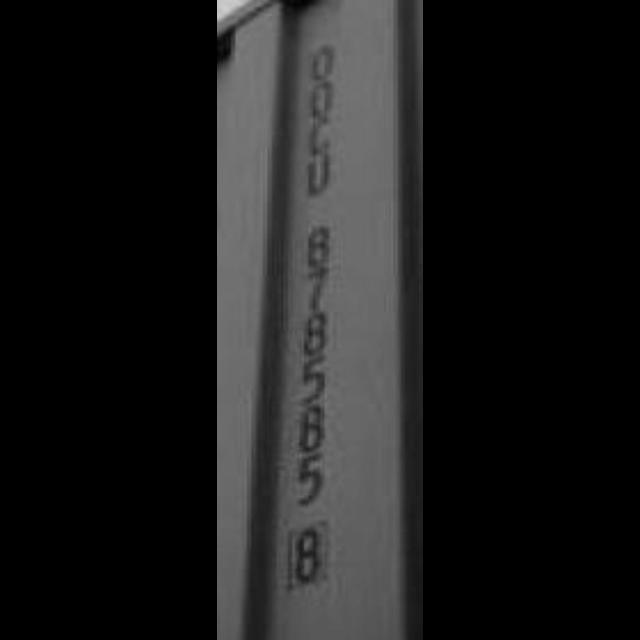5: (290, 450, 338, 510), (290, 357, 334, 405)
7: (292, 268, 341, 314)
8: (284, 521, 334, 589), (292, 308, 342, 362), (287, 403, 337, 457), (298, 217, 342, 271)
c: (300, 108, 342, 152)
o: (306, 31, 346, 81), (304, 74, 344, 114)
u: (300, 152, 344, 202)
